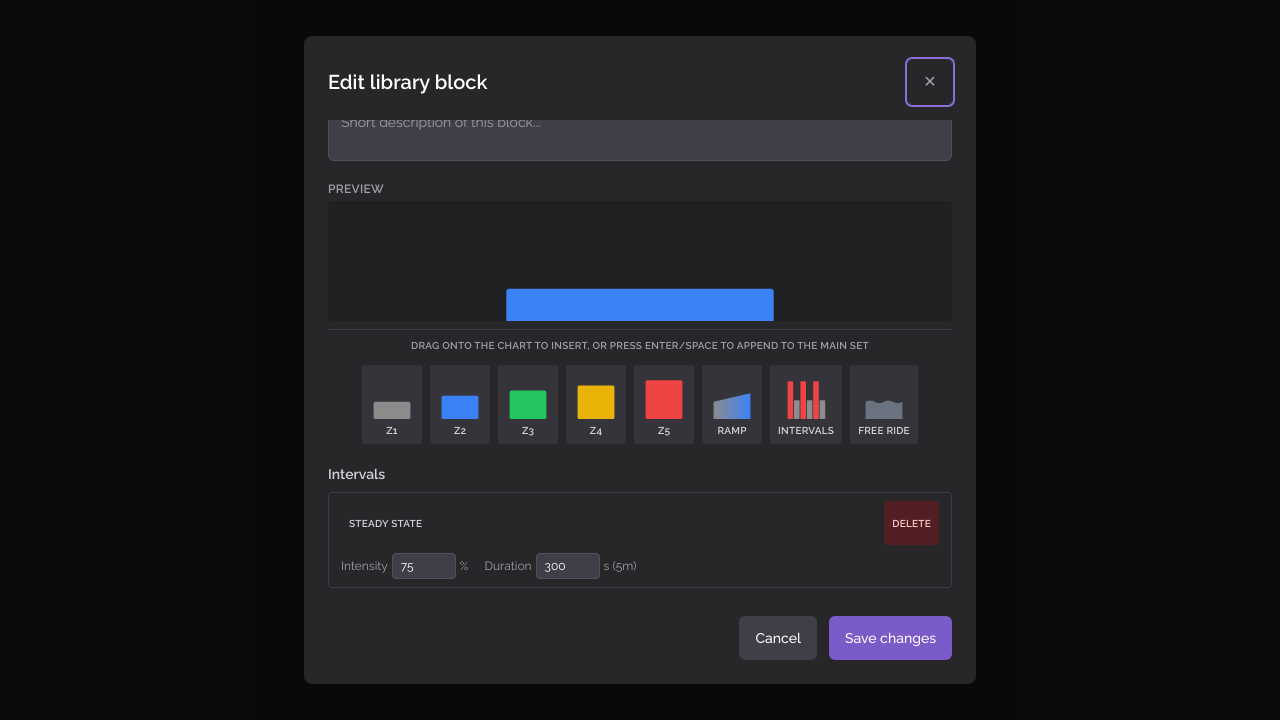
CreateBlockModal › interval list › removes the interval when the Delete button is clicked
(page scrolled)
Expected: the button "Steady State" is shown, [341, 501, 430, 545]
Click the button "Delete" at (912, 523), box [884, 501, 939, 545]
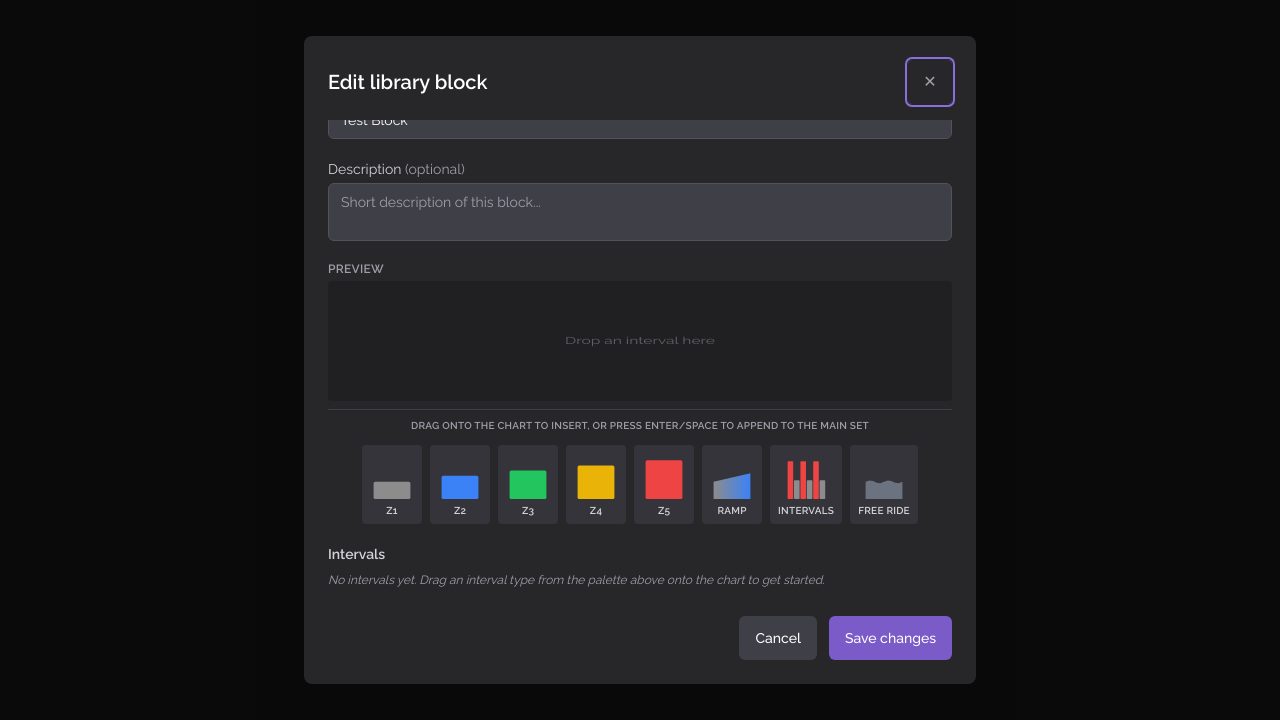
Expected: the button "Steady State" is gone
